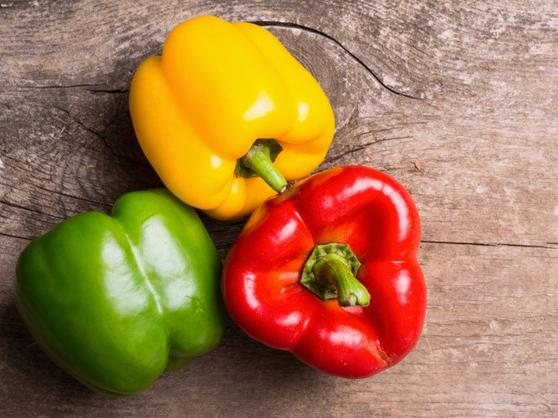pepper: (224, 158, 432, 384)
